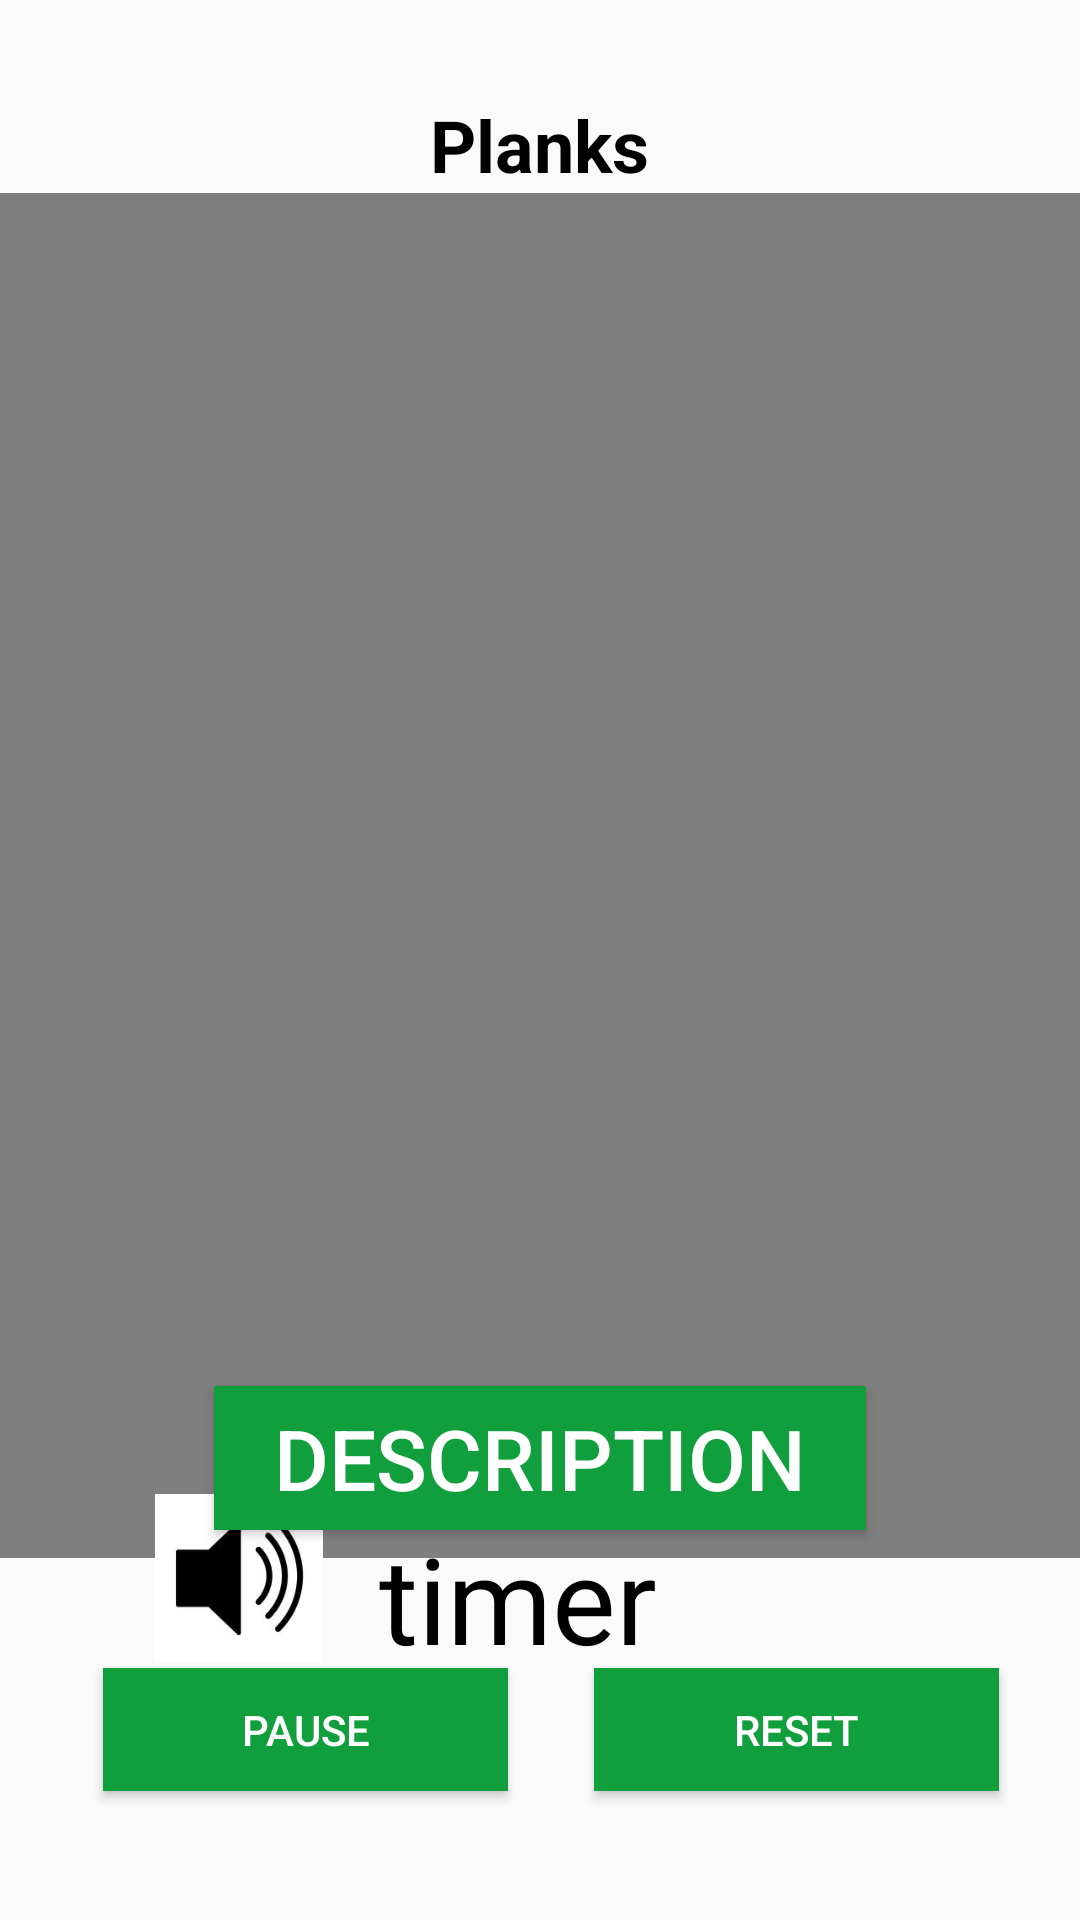

Icon click points for this 1080x1920 phone screenshot, format point (x, y):
speakericon: point (239, 1578)
